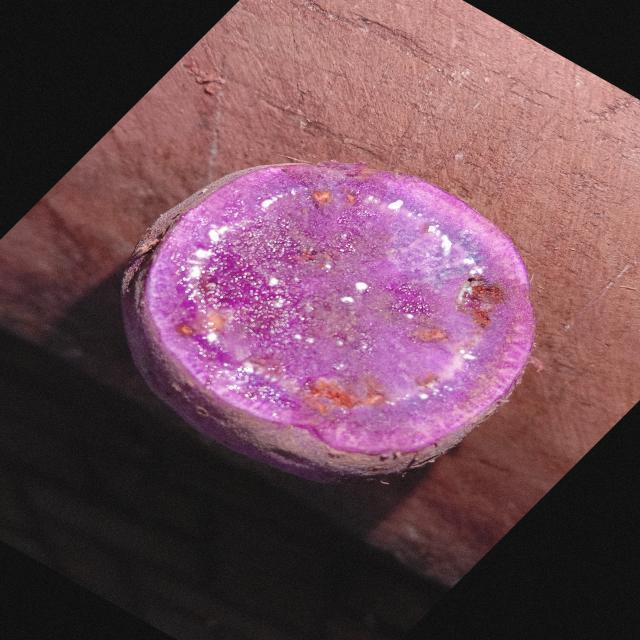Sick Sweet Potato_Tuber Rot: (147, 162, 535, 454)
